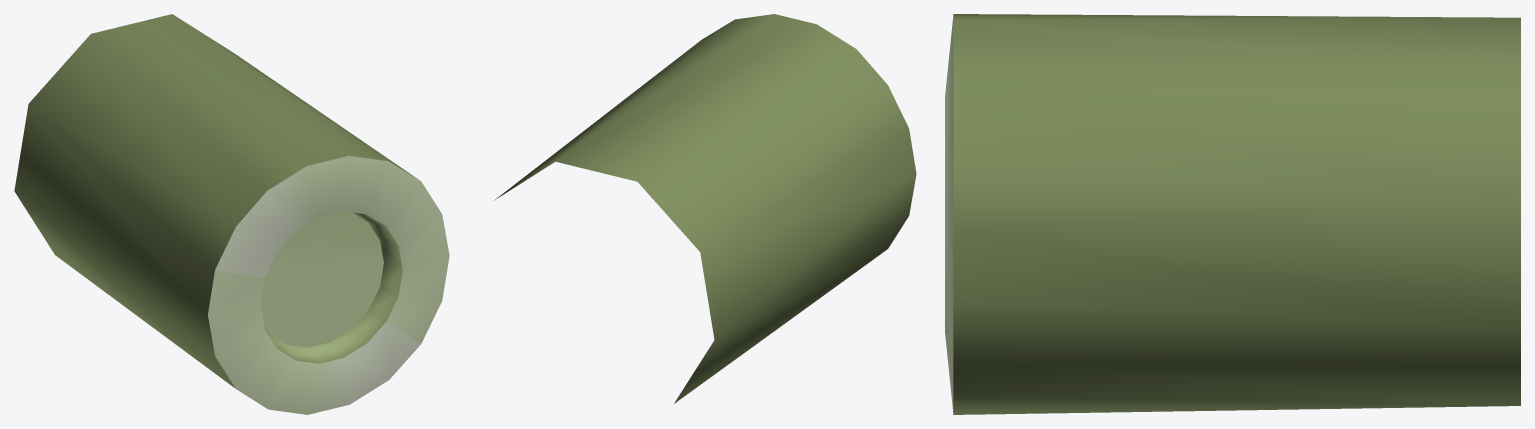
The model's file is TubeElevatorWheel2.glb.
3 renders of one model, left to right at view 1: azimuth 30°, elevation 25°; view 2: azimuth 150°, elevation 25°; view 3: azimuth 270°, elevation 25°, orthographic. The views are drawn at different scales.
Visible parts, largest first — view 1: TubeElevatorWheel2; view 2: TubeElevatorWheel2; view 3: TubeElevatorWheel2.
Part boxes in pixels (<box>): TubeElevatorWheel2: <box>14,14,449,414</box>; TubeElevatorWheel2: <box>494,14,916,403</box>; TubeElevatorWheel2: <box>945,14,1520,414</box>.
Bounding box in the file's own units: 0.5119 × 0.5042 × 0.7336.
